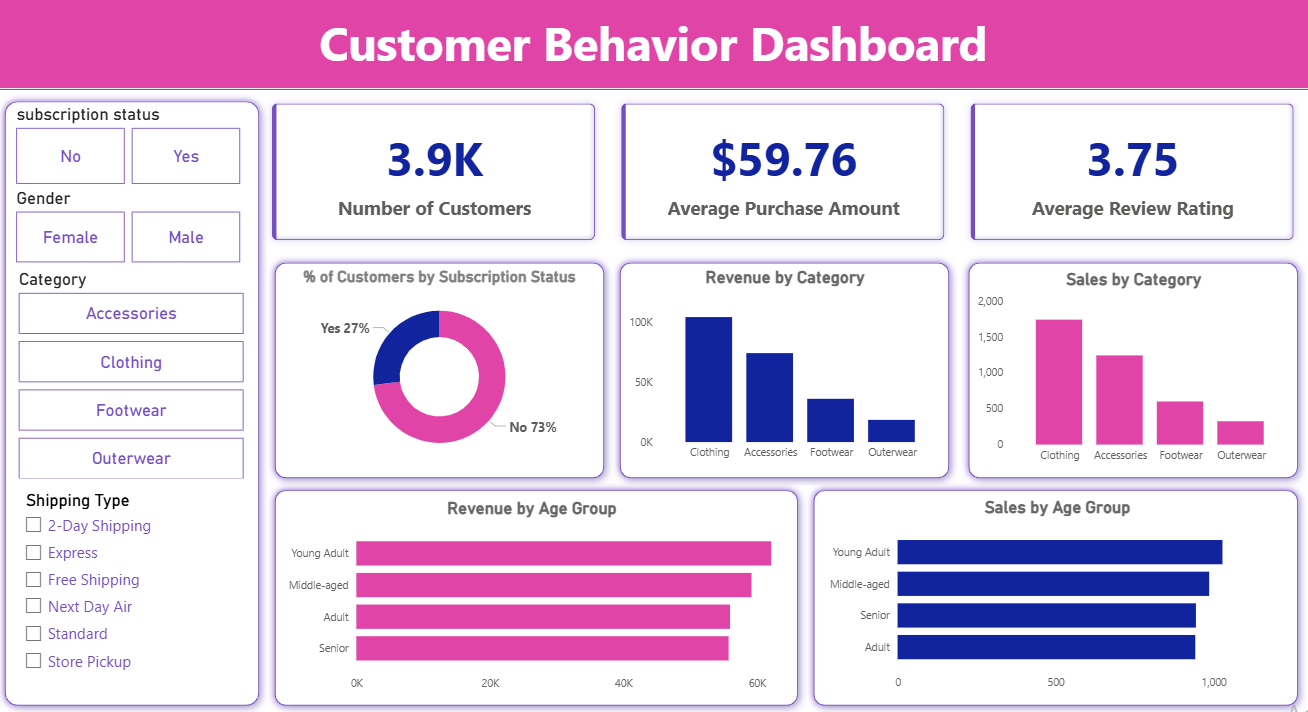

Layout of this report page (visuals, bound fields, positions):
{"tool":"powerbi","page":{"name":"Page 1","canvas":[1500,820],"ordinal":0},"visuals":[{"type":"cardVisual","fields":{"Data":["customer_behavior customer.Number of Customers","customer_behavior customer.Average Purchase Amount","customer_behavior customer.Average Review Rating"]},"box":[298.6,107.1,1201.4,188.6],"z":0},{"type":"shape","box":[0,0,1500,107.1],"z":1000},{"type":"textbox","box":[0,11.4,1500,150],"z":2000},{"type":"shape","box":[308.6,295.7,394.3,264.3],"z":3000},{"type":"donutChart","title":"% of Customers by Subscription Status","fields":{"Category":["customer_behavior customer.subscription_status"],"Y":["CountNonNull(customer_behavior customer.customer_id)"]},"box":[328.6,310,354.3,230],"z":4000},{"type":"shape","box":[702.9,295.7,394.3,264.3],"z":5000},{"type":"shape","box":[1101.4,295.7,394.3,264.3],"z":6000},{"type":"clusteredColumnChart","title":"Revenue by Category","fields":{"Category":["customer_behavior customer.category"],"Y":["Sum(customer_behavior customer.purchase_amount)"]},"box":[717.1,310,367.1,230],"z":7000},{"type":"clusteredColumnChart","title":"Sales by Category","fields":{"Category":["customer_behavior customer.category"],"Y":["CountNonNull(customer_behavior customer.customer_id)"]},"box":[1115.7,312.9,367.1,230],"z":8000},{"type":"shape","box":[0,111.4,308.6,708.6],"z":9000},{"type":"advancedSlicerVisual","title":"subscription status","fields":{"Values":["customer_behavior customer.subscription_status"]},"box":[17.1,124.3,267.1,95.7],"z":10000},{"type":"advancedSlicerVisual","title":"Gender","fields":{"Values":["customer_behavior customer.gender"]},"box":[17.1,220,267.1,90],"z":11000},{"type":"advancedSlicerVisual","title":"Category","fields":{"Values":["customer_behavior customer.category"]},"box":[20,312.9,267.1,247.1],"z":12000},{"type":"slicer","title":"Category","fields":{"Values":["customer_behavior customer.shipping_type"]},"box":[20,560,267.1,244.3],"z":13000},{"type":"shape","box":[308.6,555.7,615.7,264.3],"z":14000},{"type":"clusteredBarChart","title":"Revenue by Age Group","fields":{"Category":["customer_behavior customer.age_group"],"Y":["Sum(customer_behavior customer.purchase_amount)"]},"box":[322.9,574.3,577.1,230],"z":15000},{"type":"shape","box":[924.3,555.7,571.4,264.3],"z":16000},{"type":"clusteredBarChart","title":"Sales by Age Group","fields":{"Category":["customer_behavior customer.age_group"],"Y":["CountNonNull(customer_behavior customer.customer_id)"]},"box":[941.4,572.9,541.4,230],"z":17000}]}

Visuals, with their boxes in screenshot pixels (x1, y1, x2, y2), scaled from the page's 1500x820 canvas onto the 1308x712 screenshot:
cardVisual - customer_behavior customer.Number of Customers x customer_behavior customer.Average Purchase Amount: [left=260, top=93, right=1307, bottom=257]
shape: [left=0, top=0, right=1307, bottom=93]
textbox: [left=0, top=10, right=1307, bottom=140]
shape: [left=269, top=257, right=613, bottom=486]
"% of Customers by Subscription Status" donutChart: [left=287, top=269, right=595, bottom=469]
shape: [left=613, top=257, right=957, bottom=486]
shape: [left=960, top=257, right=1304, bottom=486]
"Revenue by Category" clusteredColumnChart: [left=625, top=269, right=945, bottom=469]
"Sales by Category" clusteredColumnChart: [left=973, top=272, right=1293, bottom=471]
shape: [left=0, top=97, right=269, bottom=711]
"subscription status" advancedSlicerVisual: [left=15, top=108, right=248, bottom=191]
"Gender" advancedSlicerVisual: [left=15, top=191, right=248, bottom=269]
"Category" advancedSlicerVisual: [left=17, top=272, right=250, bottom=486]
"Category" slicer: [left=17, top=486, right=250, bottom=698]
shape: [left=269, top=483, right=806, bottom=711]
"Revenue by Age Group" clusteredBarChart: [left=282, top=499, right=785, bottom=698]
shape: [left=806, top=483, right=1304, bottom=711]
"Sales by Age Group" clusteredBarChart: [left=821, top=497, right=1293, bottom=697]
